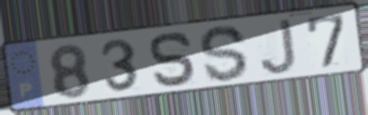3: (99, 37, 143, 95)
7: (304, 11, 347, 70)
8: (47, 43, 93, 101)
J: (258, 16, 299, 76)
S: (198, 23, 251, 84), (148, 30, 200, 88)
